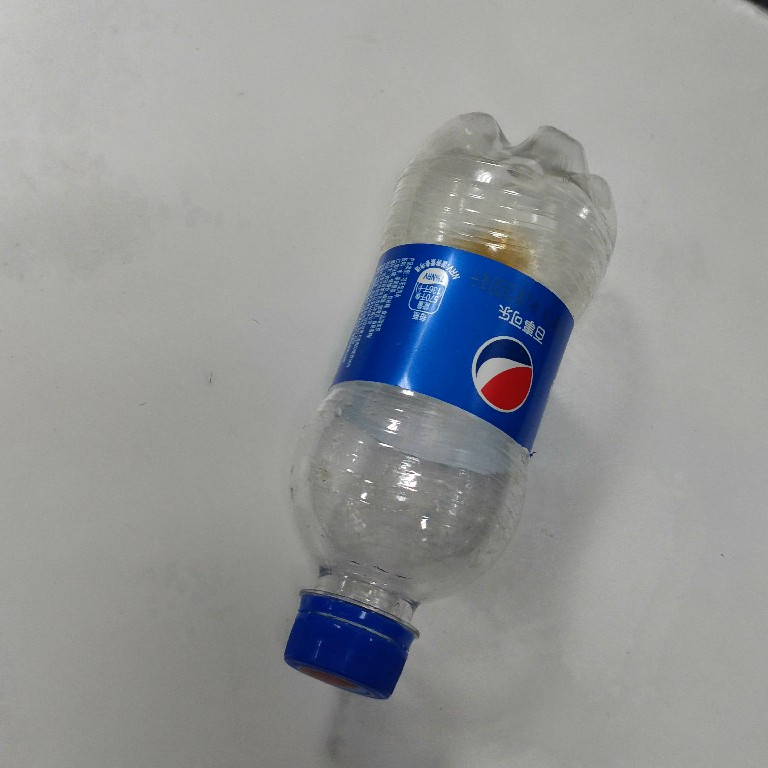bottle: (277, 102, 628, 705)
